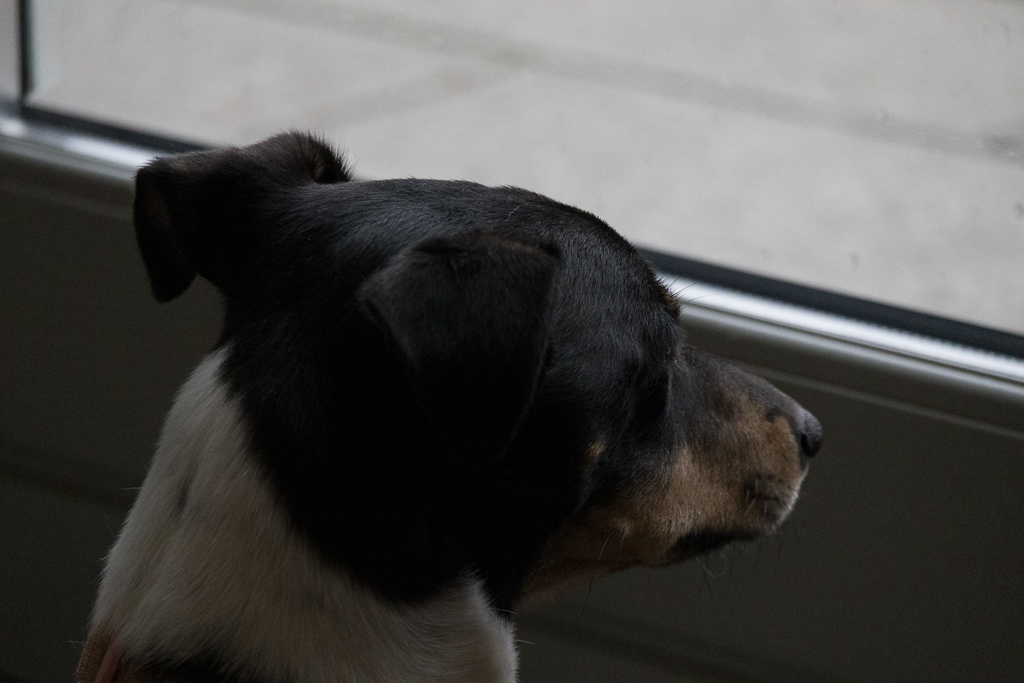Dog: (57, 123, 840, 683)
